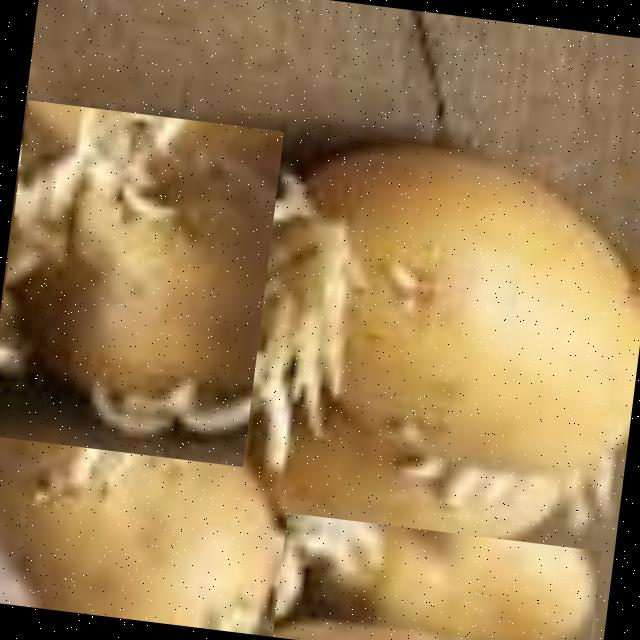Sprouted potato: (257, 133, 640, 519), (0, 98, 282, 465), (0, 363, 347, 638), (260, 380, 630, 591), (271, 511, 600, 640)
